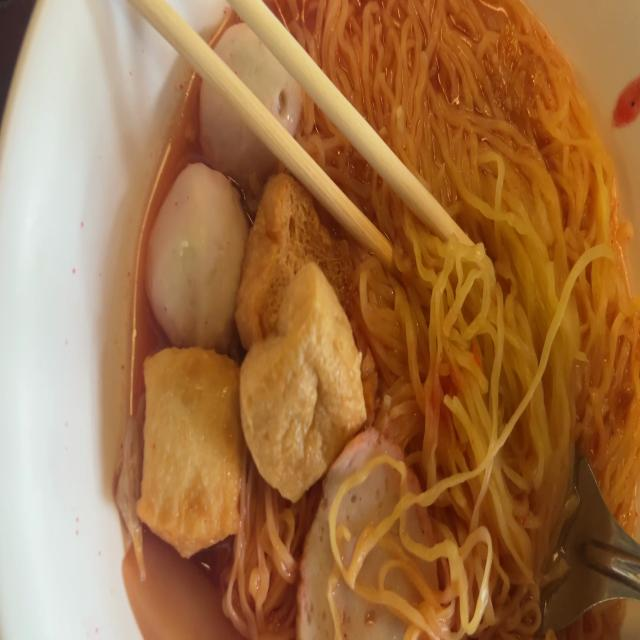crunchy_squid: (120, 523, 230, 640)
egg_noodles: (285, 0, 640, 639)
fish_ball: (146, 158, 249, 355), (196, 21, 296, 187)
fried_fish_balls: (304, 423, 438, 640)
fried_tofu: (245, 268, 364, 482), (240, 175, 354, 364)
noodle: (132, 0, 640, 640)
tofu: (138, 348, 246, 550)
